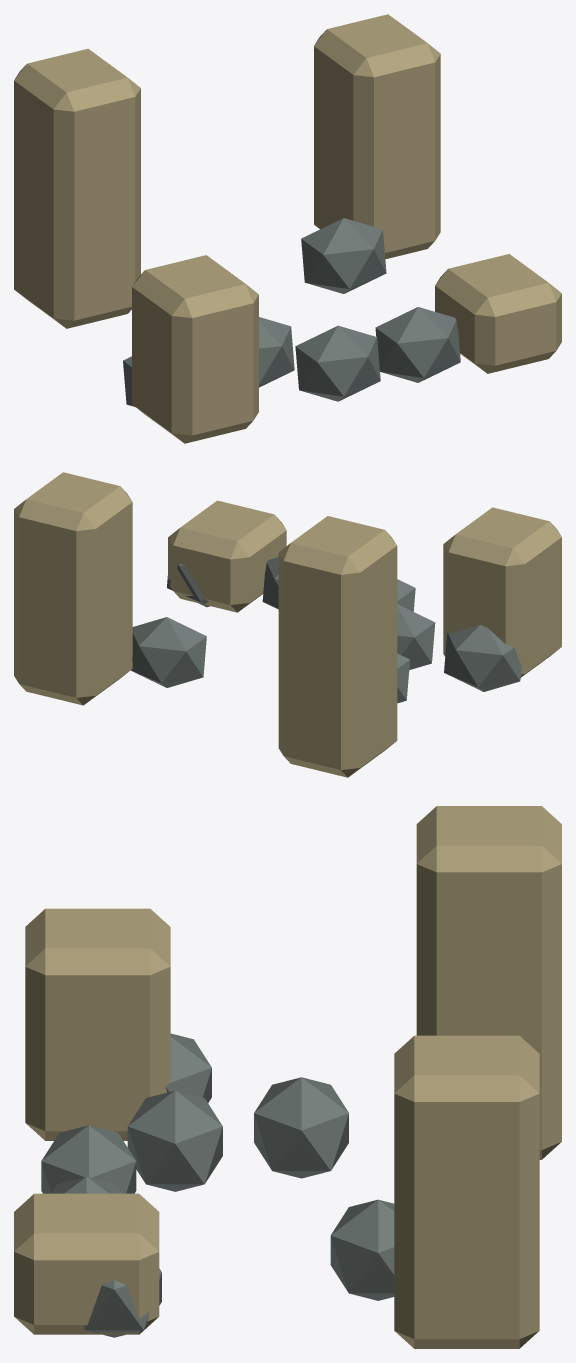
Rendered from ruins.glb.
3 views of the same model, one above another, from view 1: azimuth 30°, elevation 25°; view 2: azimuth 150°, elevation 25°; view 3: azimuth 270°, elevation 25° (orthographic). The views are drawn at different scales.
Visible parts, largest first — view 1: ruins; view 2: ruins; view 3: ruins.
Part boxes in pixels (x1,y1,x2,y2): ruins: (14,14,561,443); ruins: (14,472,561,777); ruins: (14,806,561,1348).
Bounding box in the file's own units: 0.5604 × 0.325 × 0.49.
